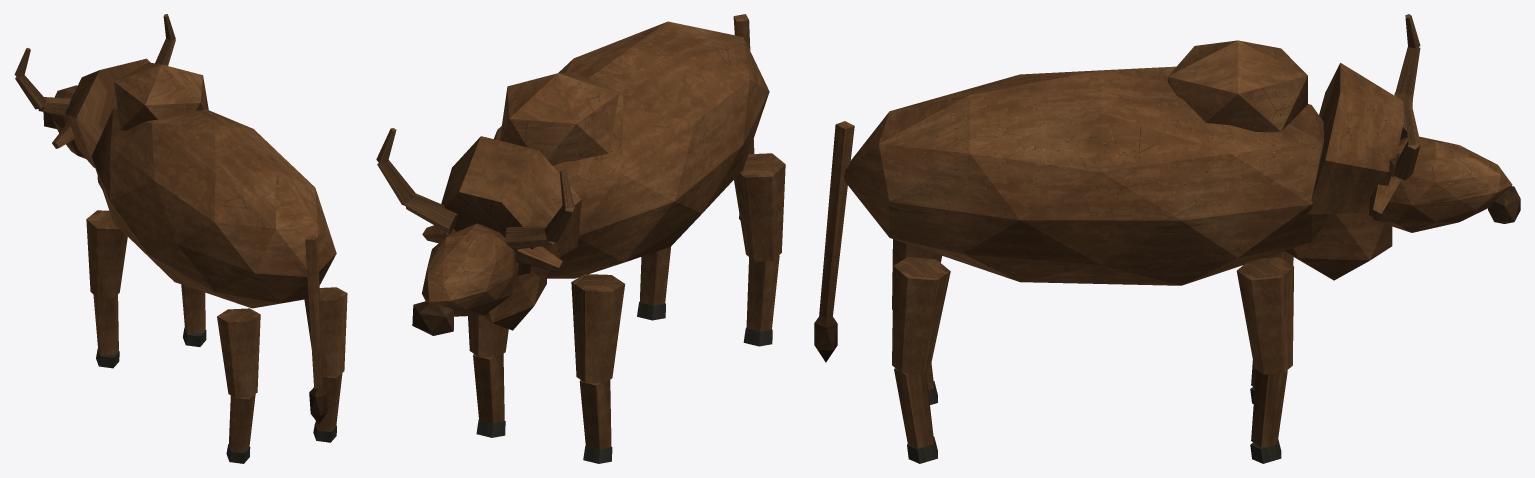
Rendered from animale_bue.glb.
3 renders of one model, left to right at view 1: azimuth 30°, elevation 25°; view 2: azimuth 150°, elevation 25°; view 3: azimuth 270°, elevation 25°, orthographic. The views are drawn at different scales.
Visible parts, largest first — view 1: animale_bue; view 2: animale_bue; view 3: animale_bue.
Boxes of the visible parts, box(x1,y1,x2,y2) form: animale_bue: box(14, 14, 347, 463); animale_bue: box(376, 14, 785, 463); animale_bue: box(814, 14, 1520, 463).
Bounding box in the file's own units: 0.8855 × 1.57 × 2.57.
4 materials, 4 textured.
